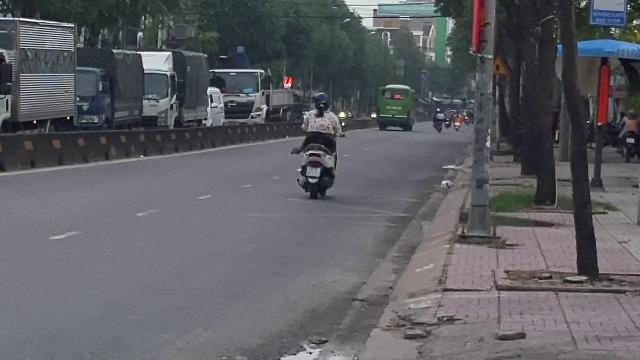helmet: (312, 92, 330, 110)
licenseplate: (306, 167, 320, 177)
motorcyclist: (294, 90, 346, 198)
